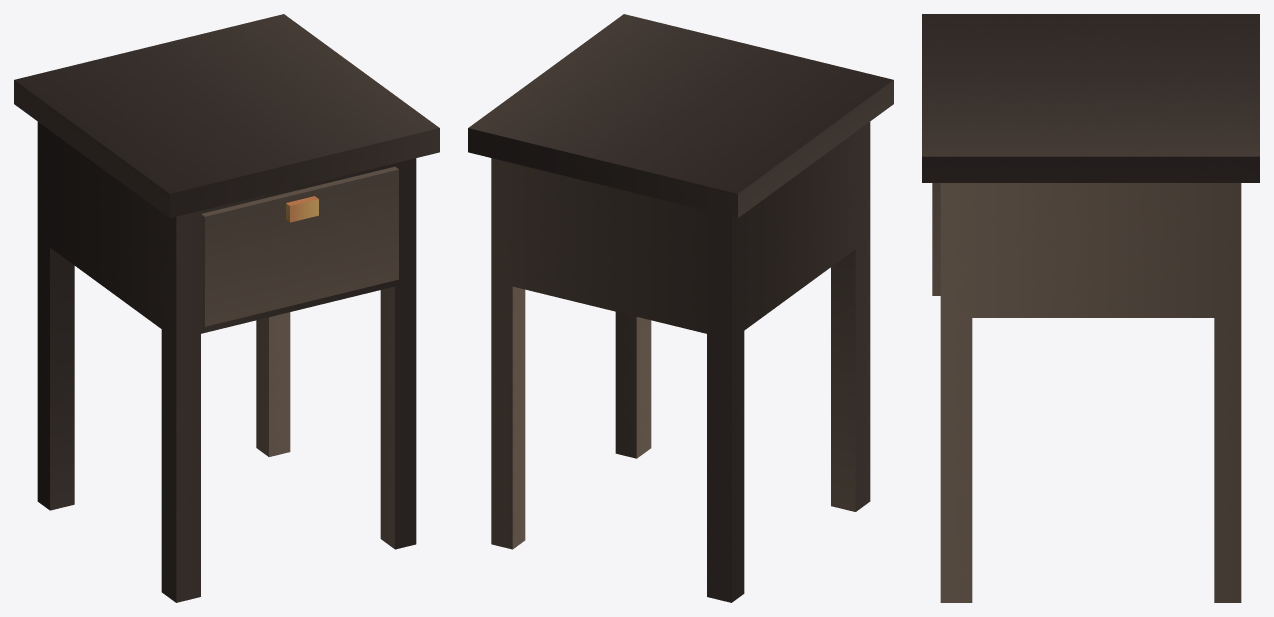
File: bedside table.fbx
The picture shows the model from 3 angles, left to right: view 1: azimuth 30°, elevation 25°; view 2: azimuth 150°, elevation 25°; view 3: azimuth 270°, elevation 25°; orthographic projection. The views are drawn at different scales.
Visible parts, largest first — view 1: Box001, Box002; view 2: Box001; view 3: Box001.
Part boxes in pixels (x1=…): Box001: x1=14, y1=14, x2=439, y2=602; Box002: x1=286, y1=196, x2=318, y2=222; Box001: x1=468, y1=14, x2=893, y2=602; Box001: x1=922, y1=14, x2=1259, y2=602.
Bounding box in the file's own units: 0.3371 × 0.5 × 0.3371.
